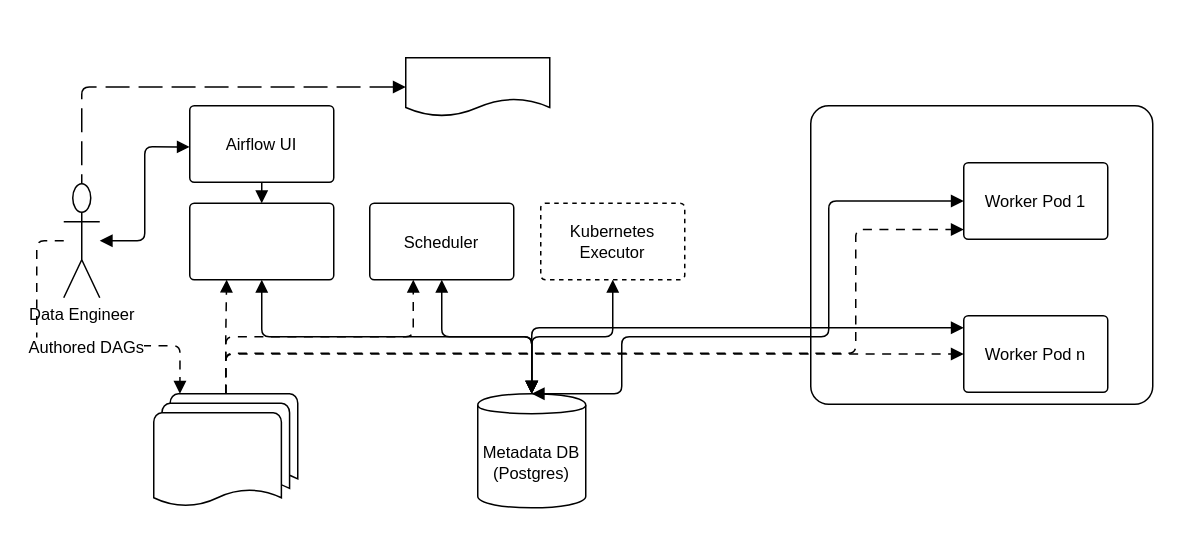
The diagram is 1179 pixels wide and 534 high, and some of its shapes have lost their labels. Here are the shapes that lost their labels. From the top down, the centre of each, then its label:
At point (954, 64): "Kubernetes cluster (dynamic POD creation as needed)".
At point (477, 86): "Airflow.cfg".
At point (261, 241): "Web Server".
At point (225, 450): "DAGs".
